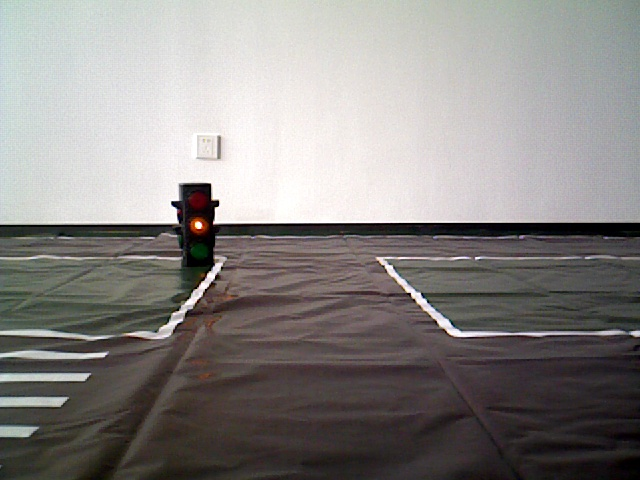yellow: (174, 181, 215, 263)
